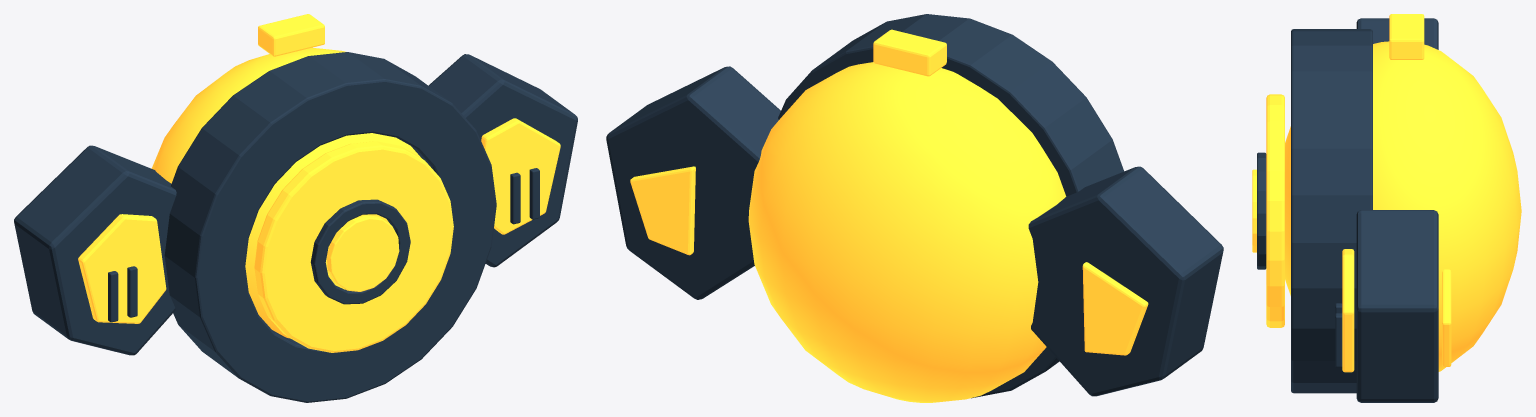
Rendered from Target_Drone.fbx.
3 views of the same model, side by side, from view 1: azimuth 30°, elevation 25°; view 2: azimuth 150°, elevation 25°; view 3: azimuth 270°, elevation 25° (orthographic). The views are drawn at different scales.
Parts seen in each view (by area): view 1: Target_Drone; view 2: Target_Drone; view 3: Target_Drone.
Boxes of the visible parts, <box> form: Target_Drone: <box>14,14,577,402</box>; Target_Drone: <box>606,14,1223,402</box>; Target_Drone: <box>1252,14,1521,402</box>.
Size of the model in its own units: 0.2732 by 0.165 by 0.115.
